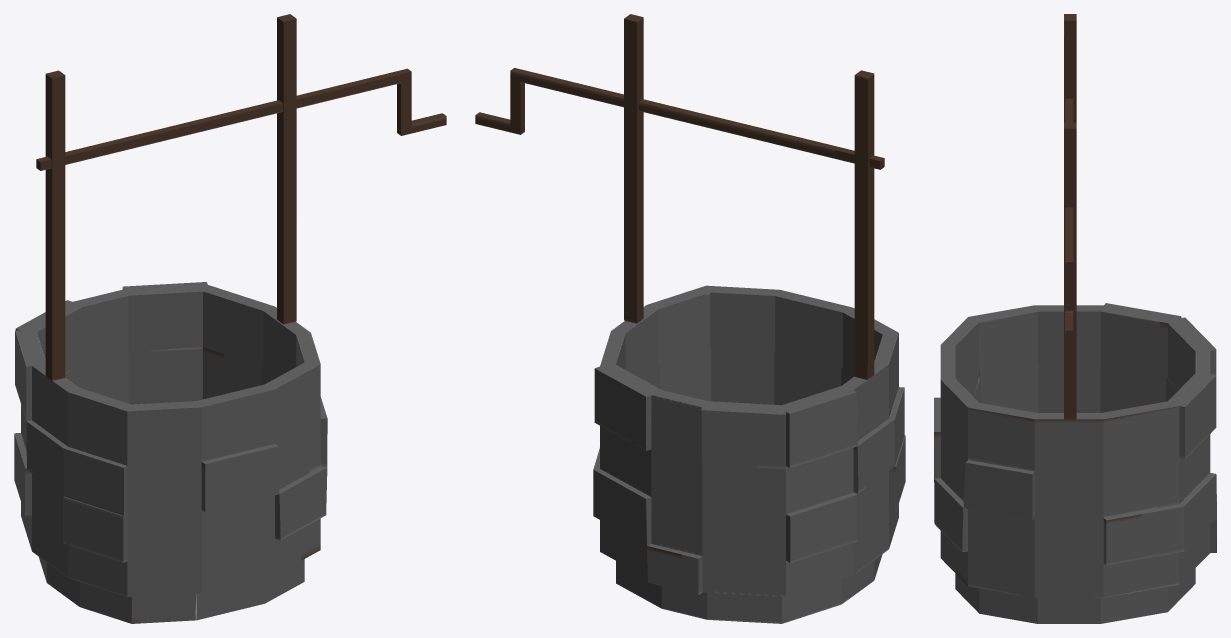
File: Well.glb
The picture shows the model from 3 angles, left to right: view 1: azimuth 30°, elevation 25°; view 2: azimuth 150°, elevation 25°; view 3: azimuth 270°, elevation 25°; orthographic projection. The views are drawn at different scales.
Parts seen in each view (by area): view 1: Cube.001; view 2: Cube.001; view 3: Cube.001.
Boxes of the visible parts, x1,y1,x2,y2 form: Cube.001: (14, 14, 446, 623); Cube.001: (475, 14, 905, 623); Cube.001: (934, 14, 1216, 623).
Size of what is drawn, in the model's own units: 3.34 by 4.1 by 2.1.
Materials: 1 (1 with a texture image).
